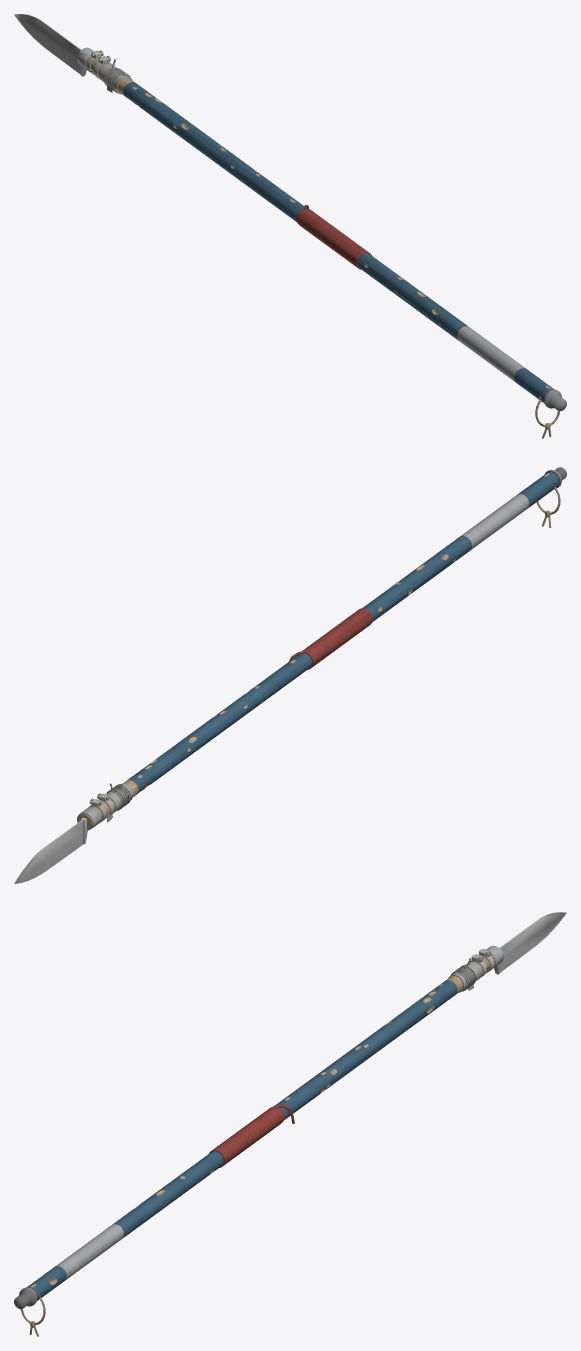
Rendered from lanca_improvisada_leve.glb.
3 renders of one model, top to bottom at view 1: azimuth 30°, elevation 25°; view 2: azimuth 150°, elevation 25°; view 3: azimuth 330°, elevation 25°, orthographic.
Parts seen in each view (by area): view 1: lanca_improvisada_leve; view 2: lanca_improvisada_leve; view 3: lanca_improvisada_leve.
Part boxes in pixels (bbox=[...]): lanca_improvisada_leve: bbox=[14, 14, 566, 438]; lanca_improvisada_leve: bbox=[14, 467, 566, 883]; lanca_improvisada_leve: bbox=[14, 912, 566, 1336].
Size of the model in its own units: 0.0416 by 0.0961 by 1.57.
Materials: 1 (1 with a texture image).
